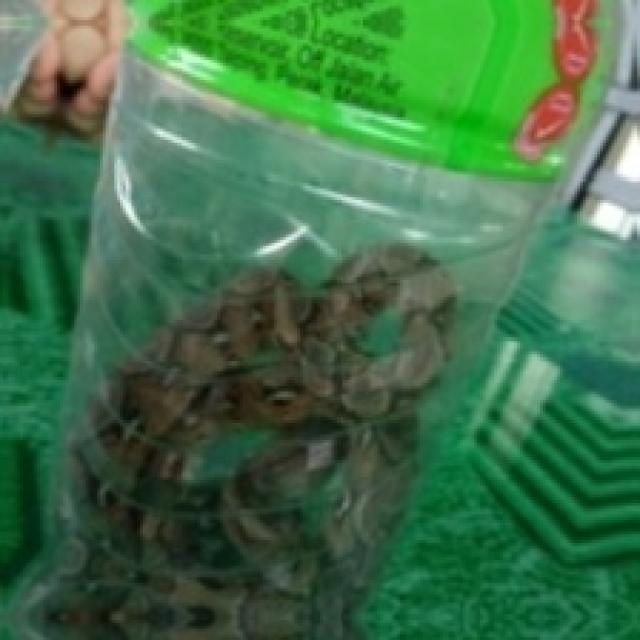reticulated python: (31, 243, 454, 637), (43, 243, 454, 637)
